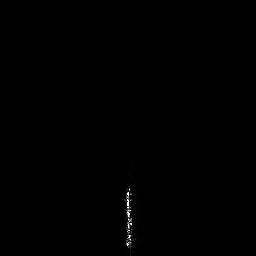ship: (124, 184, 137, 253)
